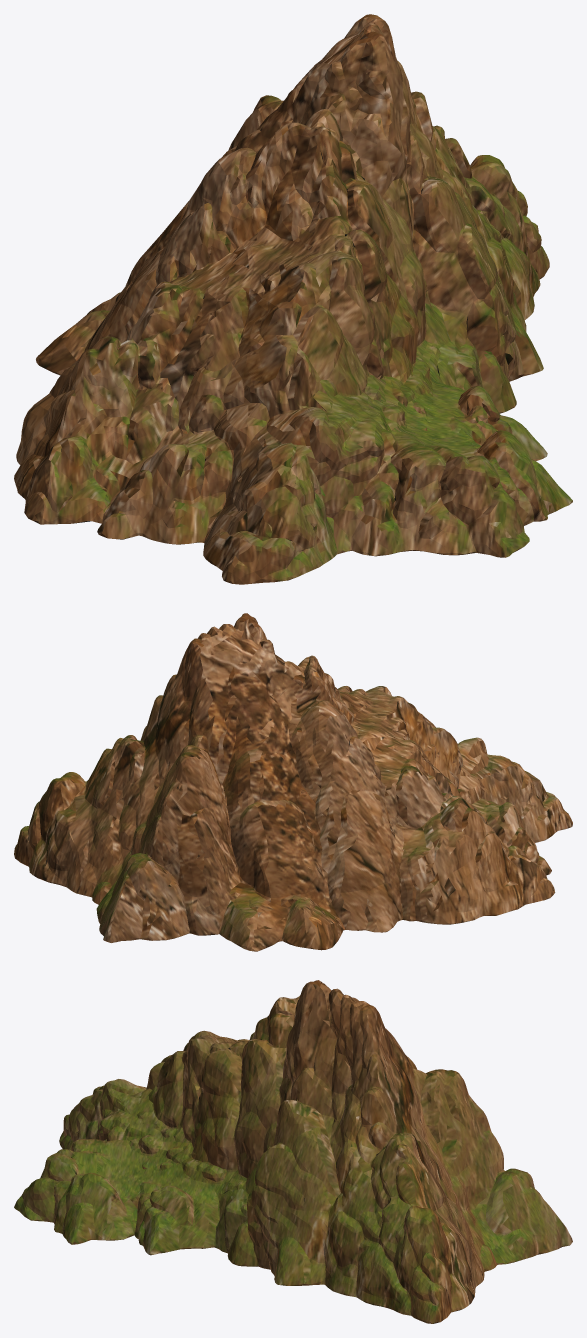
Rendered from Mountain_MeadowStone (1).fbx.
3 views of the same model, one above another, from view 1: azimuth 30°, elevation 25°; view 2: azimuth 150°, elevation 25°; view 3: azimuth 270°, elevation 25° (orthographic). The views are drawn at different scales.
Parts seen in each view (by area): view 1: Mountain_MeadowStone_Unity_UVFixed; view 2: Mountain_MeadowStone_Unity_UVFixed; view 3: Mountain_MeadowStone_Unity_UVFixed.
Part boxes in pixels (x1=…): Mountain_MeadowStone_Unity_UVFixed: x1=14, y1=14, x2=572, y2=584; Mountain_MeadowStone_Unity_UVFixed: x1=14, y1=613, x2=572, y2=951; Mountain_MeadowStone_Unity_UVFixed: x1=14, y1=980, x2=572, y2=1323.
Size of the model in its own units: 96.2 by 49.87 by 99.41.
Materials: 1 (1 with a texture image).
